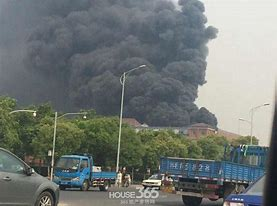smoke: (4, 1, 218, 127)
